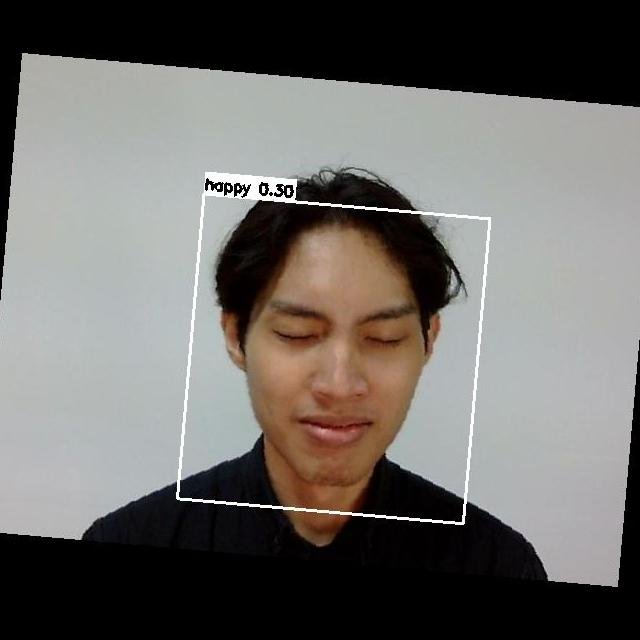Sad: (256, 280, 424, 461)
